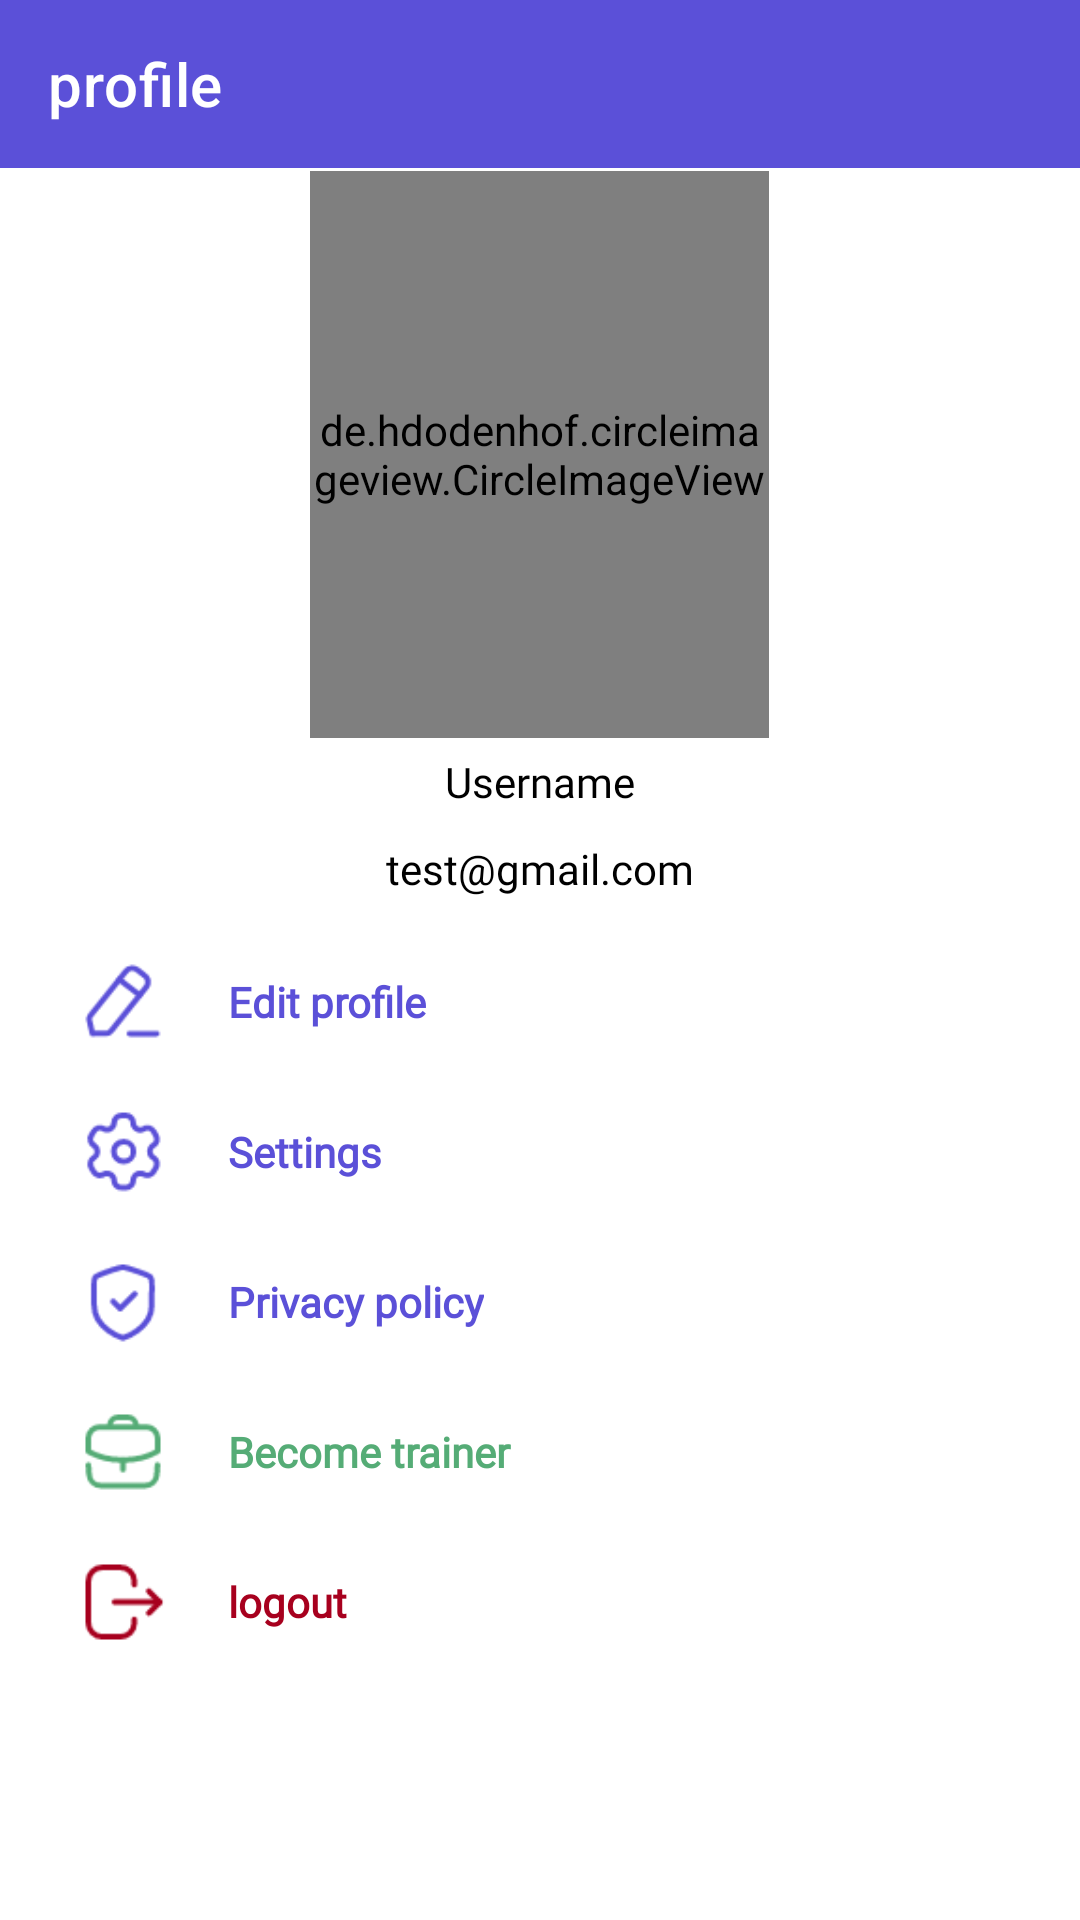

Named icons in this screenshot (1080×1920) and their centers, (x=x, y=y):
privcy: (x=123, y=1303)
